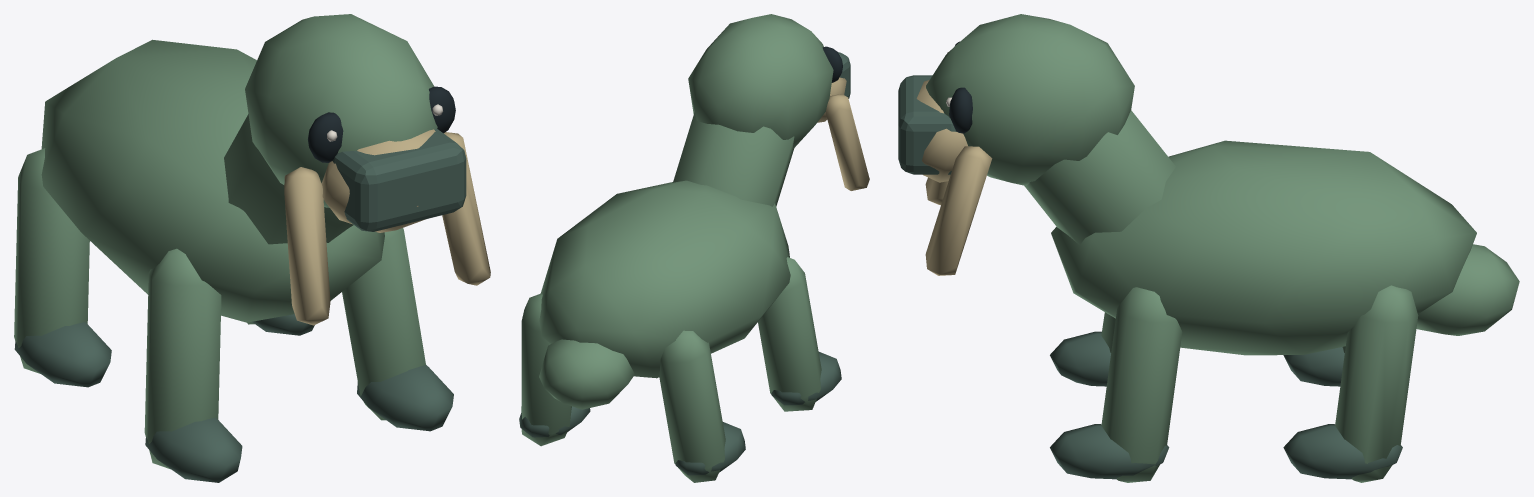
Rendered from org_placerias.glb.
The picture shows the model from 3 angles, left to right: view 1: azimuth 30°, elevation 25°; view 2: azimuth 150°, elevation 25°; view 3: azimuth 270°, elevation 25°; orthographic projection. The views are drawn at different scales.
Parts seen in each view (by area): view 1: Body, Head, Leg_FR, Leg_BR, Leg_FL, Eye_R, Eye_L, Leg_BL; view 2: Body, Head, Leg_BR, Leg_FR, Tail, Leg_BL, Eye_R; view 3: Body, Head, Leg_BL, Leg_FL, Tail, Leg_FR, Leg_BR, Eye_L.
Boxes of the visible parts, x1,y1,x2,y2 form: Body: (41, 39, 384, 322); Head: (224, 14, 490, 325); Leg_FR: (144, 248, 242, 482); Leg_BR: (14, 148, 111, 387); Leg_FL: (342, 228, 453, 431); Eye_R: (308, 112, 343, 162); Eye_L: (429, 86, 455, 133); Leg_BL: (247, 314, 314, 335); Body: (539, 180, 790, 378); Head: (673, 14, 869, 206); Leg_BR: (659, 330, 745, 482); Leg_FR: (758, 257, 841, 411); Tail: (539, 339, 634, 409); Leg_BL: (519, 293, 590, 446); Eye_R: (822, 46, 842, 82); Body: (1051, 140, 1476, 355); Head: (898, 14, 1175, 275); Leg_BL: (1283, 285, 1418, 482); Leg_FL: (1050, 287, 1182, 482); Tail: (1416, 244, 1519, 335); Leg_FR: (1050, 312, 1115, 386); Leg_BR: (1283, 346, 1345, 386); Eye_L: (946, 87, 972, 133).
Size of the model in its own units: 0.7751 by 1.2 by 1.64.
